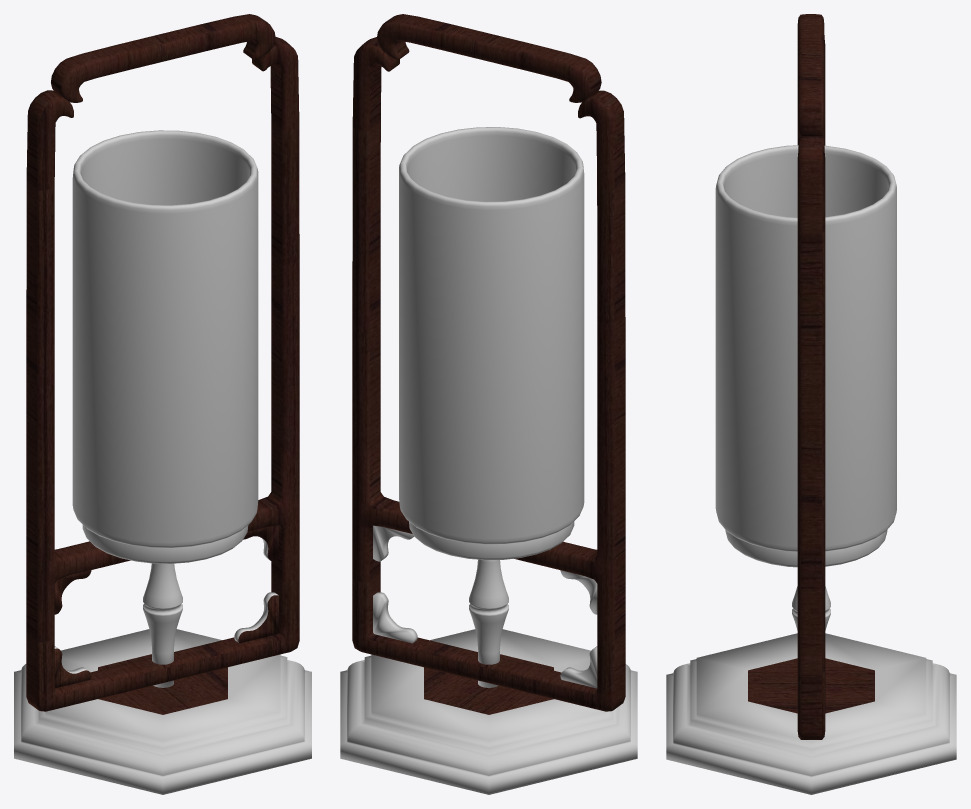
The model's file is lamp1.obj.
3 views of the same model, side by side, from view 1: azimuth 30°, elevation 25°; view 2: azimuth 150°, elevation 25°; view 3: azimuth 270°, elevation 25° (orthographic). The views are drawn at different scales.
Visible parts, largest first — view 1: Plane04, Circle01; view 2: Plane04, Circle01; view 3: Circle01, Plane04.
Boxes of the visible parts, x1,y1,x2,y2 form: Plane04: (14,14,311,794); Circle01: (72,130,258,547); Plane04: (340,14,637,794); Circle01: (399,127,584,544); Circle01: (715,145,896,551); Plane04: (666,14,956,794).
Bounding box in the file's own units: 2.07 × 4.55 × 1.79.
